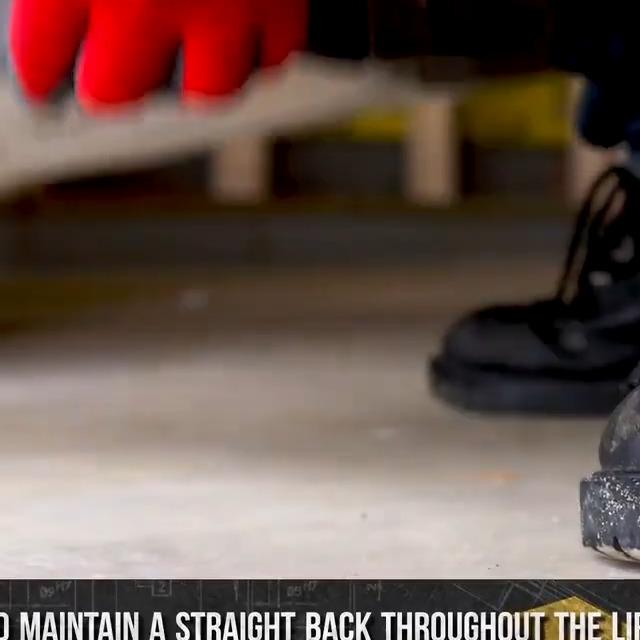Gloves: (4, 0, 315, 118)
Person: (4, 0, 640, 572)
